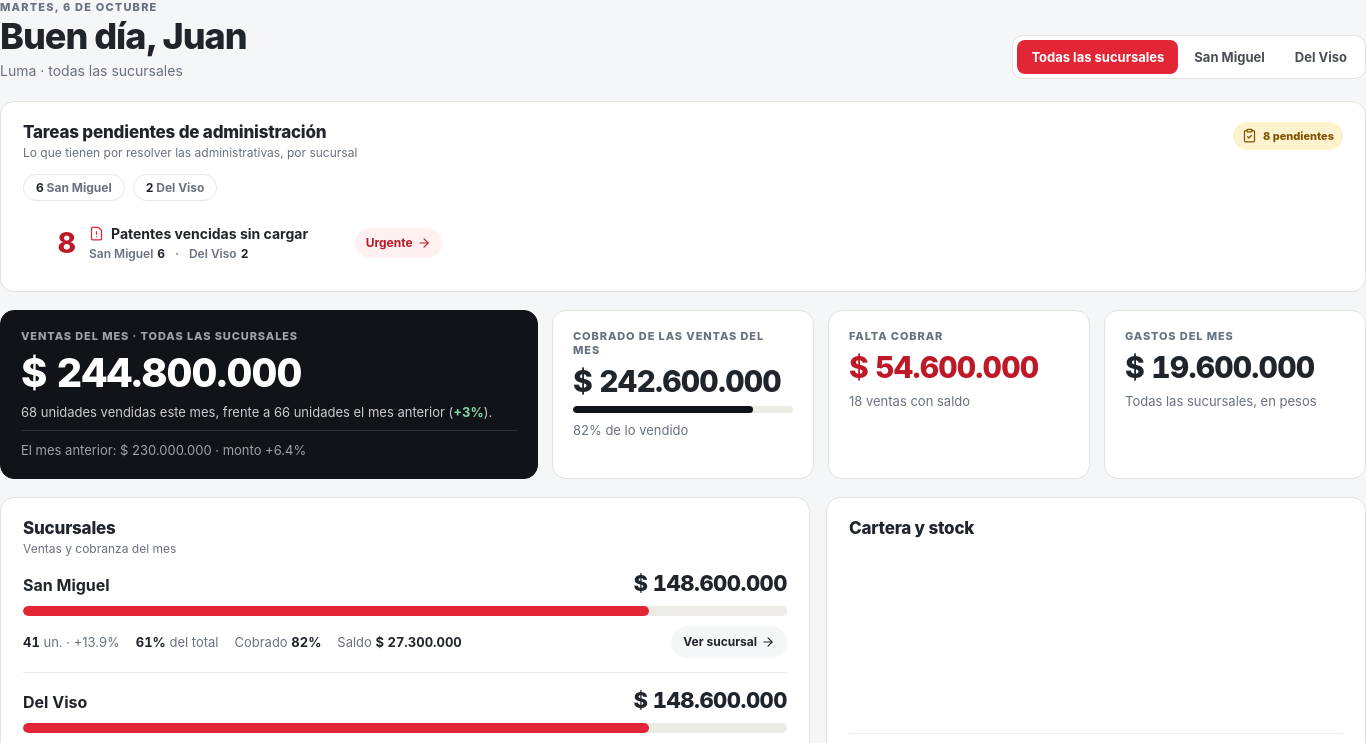
Inicio del administrador por sucursal › abre la sucursal desde su tarjeta
Click the 1st button "Ver sucursal" at (729, 642), box [671, 626, 787, 658]
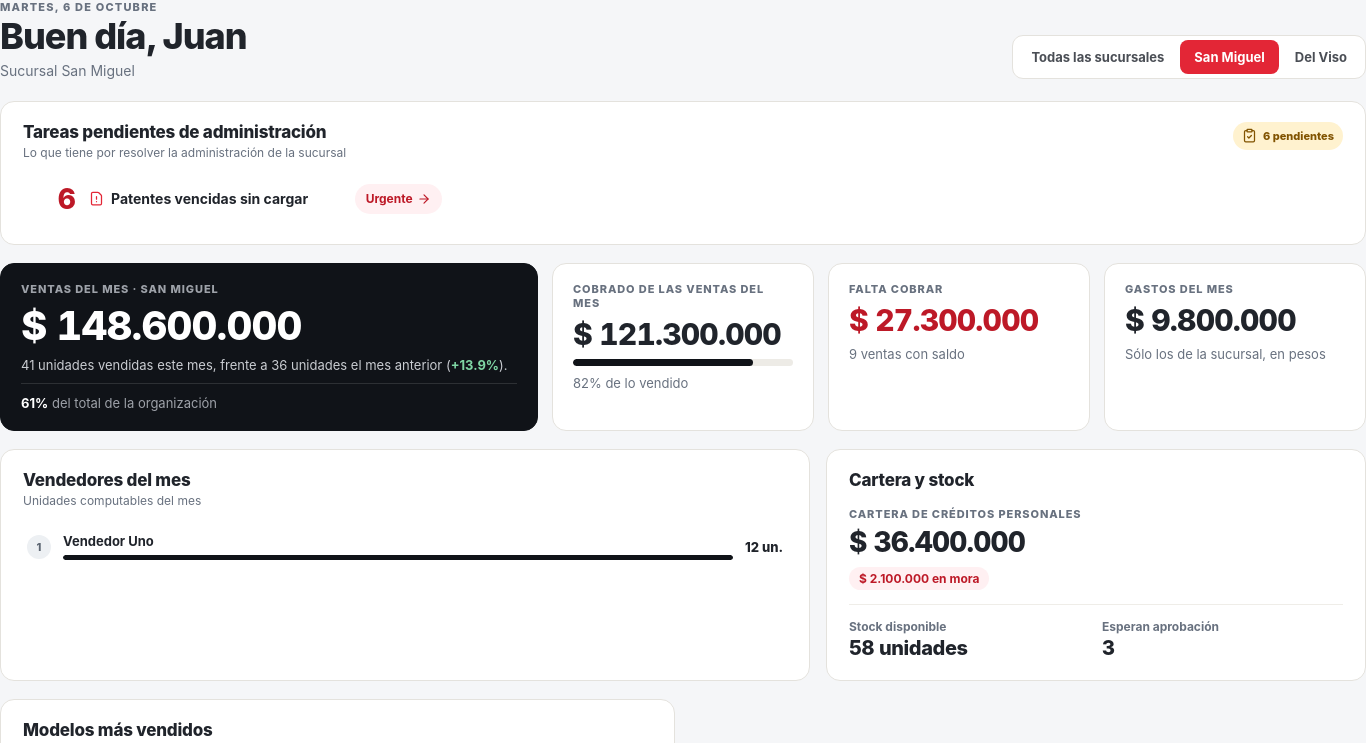
Check: the text "VENTAS DEL MES · SAN MIGUEL" is shown, box [21, 282, 219, 296]
